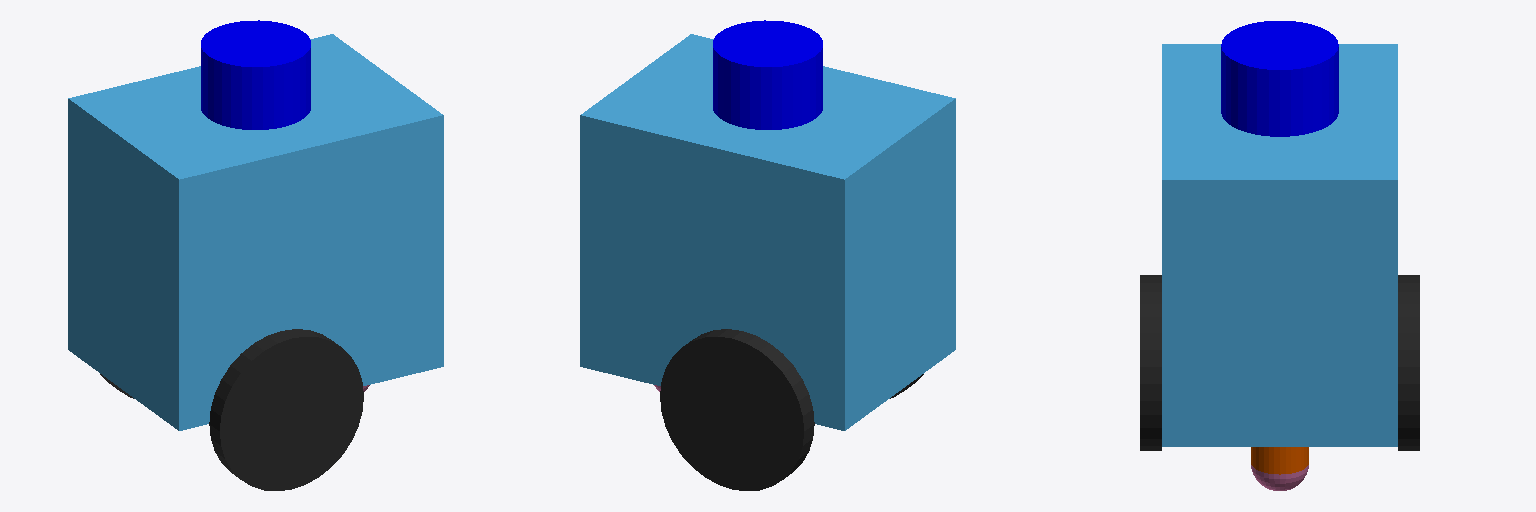
robot.urdf — two_wheeled_robot:
<robot name="two_wheeled_robot">
  <!-- Base Footprint Link -->
  <link name="base_footprint">
    <inertial>
      <origin xyz="0 0 0" rpy="0 0 0"/>
      <mass value="0.001"/>
      <inertia ixx="0.0000001" ixy="0" ixz="0" iyy="0.0000001" iyz="0" izz="0.0000001"/>
    </inertial>
  </link>
  <!-- Base Link -->
  <link name="base_link">
    <visual>
      <geometry>
        <box size="0.11 0.08 0.1"/>
      </geometry>
    </visual>
    <collision>
      <geometry>
        <box size="0.12 0.08 0.1"/>
      </geometry>
    </collision>
    <inertial>
      <mass value="1"/>
      <inertia ixx="0.001" ixy="0.0" ixz="0.0" iyy="0.001" iyz="0.0" izz="0.001"/>
    </inertial>
  </link>
  <!-- LIDAR Link -->
  <link name="lidar">
    <visual>
      <geometry>
        <cylinder radius="0.02" length="0.025"/>
      </geometry>
      <origin rpy="0 0 0" xyz="0 0 0"/>
      <material name="blue">
        <color rgba="0 0 1 1"/>
      </material>
    </visual>
    <collision>
      <geometry>
        <cylinder radius="0.02" length="0.025"/>
      </geometry>
    </collision>
    <inertial>
      <mass value="0.1"/>
      <inertia ixx="0.0001" ixy="0.0" ixz="0.0" iyy="0.0001" iyz="0.0" izz="0.0001"/>
    </inertial>
  </link>
  <!-- Wheel Links -->
  <link name="left_wheel">
    <visual>
      <geometry>
        <cylinder radius="0.03" length="0.0075"/>
      </geometry>
      <material name="black"/>
    </visual>
    <collision>
      <geometry>
        <cylinder radius="0.03" length="0.0075"/>
      </geometry>
    </collision>
    <inertial>
      <mass value="0.1"/>
      <inertia ixx="0.0001" ixy="0.0" ixz="0.0" iyy="0.0001" iyz="0.0" izz="0.0001"/>
    </inertial>
  </link>
  <link name="right_wheel">
    <visual>
      <geometry>
        <cylinder radius="0.03" length="0.0075"/>
      </geometry>
      <material name="black">
        <color rgba="0.2 0.2 0.2 1"/>
      </material>
    </visual>
    <collision>
      <geometry>
        <cylinder radius="0.03" length="0.075"/>
      </geometry>
    </collision>
    <inertial>
      <mass value="0.1"/>
      <inertia ixx="0.0001" ixy="0.0" ixz="0.0" iyy="0.0001" iyz="0.0" izz="0.0001"/>
    </inertial>
  </link>
  <!--Caster Cylinder Link-->
  <link name="caster_cylinder">
    <visual>
      <geometry>
        <cylinder radius="0.01" length="0.025"/>
      </geometry>
    </visual>
    <collision>
      <geometry>
        <cylinder radius="0.01" length="0.025"/>
      </geometry>
    </collision>
    <inertial>
      <mass value="0.05"/>
      <inertia ixx="0.001" ixy="0.0001" ixz="0.0" iyy="0.0" iyz="0.0" izz="0.0"/>
    </inertial>
  </link>
  <!-- Caster Link -->
  <link name="caster">
    <visual>
      <geometry>
        <sphere radius="0.01"/>
      </geometry>
    </visual>
    <collision>
      <geometry>
        <sphere radius="0.01"/>
      </geometry>
    </collision>
    <inertial>
      <mass value="0.05"/>
      <inertia ixx="0.0000125" ixy="0.0" ixz="0.0" iyy="0.0000125" iyz="0.0" izz="0.0000125"/>
    </inertial>
  </link>
  <!-- Joint Definitions -->
  <!-- Base Footprint Joint -->
  <joint name="base_footprint_joint" type="fixed">
    <parent link="base_footprint"/>
    <child link="base_link"/>
    <origin xyz="0 0 0" rpy="0 0 0"/>
  </joint>
  <!-- LIDAR Joint -->
  <joint name="lidar_joint" type="fixed">
    <parent link="base_link"/>
    <child link="lidar"/>
    <origin xyz="0 0 0.0625" rpy="0 0 0"/>
  </joint>
  <!-- Wheels Joint -->
  <joint name="left_wheel_joint" type="continuous">
    <parent link="base_link"/>
    <child link="left_wheel"/>
    <origin xyz="-0.0125 -0.04375 -0.05" rpy="1.57075 0 0"/>
    <axis xyz="0 1 0"/>
  </joint>
  <joint name="right_wheel_joint" type="continuous">
    <parent link="base_link"/>
    <child link="right_wheel"/>
    <origin xyz="-0.0125 0.04375 -0.05" rpy="1.57075 0 0"/>
    <axis xyz="0 1 0"/>
  </joint>
  <!-- Cylinder Caster Joint -->
  <joint name="cylinder_joint" type="fixed">
    <parent link="base_link"/>
    <child link="caster_cylinder"/>
    <origin xyz="0.0375 0 -0.05125" rpy="0 0 0"/>
    <axis xyz="0 1 0"/>
  </joint>
  <joint name="caster_joint" type="floating">
    <parent link="caster_cylinder"/>
    <child link="caster"/>
    <origin xyz="0 0 -0.0125" rpy="0 0 0"/>
  </joint>
  <!-- Gazebo plugin for differential drive -->
  <gazebo>
    <plugin name="differential_drive_controller" filename="libgazebo_ros_diff_drive.so">
      <legacyMode>false</legacyMode>
      <alwaysOn>true</alwaysOn>
      <updateRate>100</updateRate>
      <leftJoint>left_wheel_joint</leftJoint>
      <rightJoint>right_wheel_joint</rightJoint>
      <wheelSeparation>0.0875</wheelSeparation>
      <wheelDiameter>0.06</wheelDiameter>
      <torque>0.5</torque>
      <commandTopic>cmd_vel</commandTopic>
      <odometryTopic>odom</odometryTopic>
      <odometryFrame>odom</odometryFrame>
      <robotBaseFrame>base_footprint</robotBaseFrame>
    </plugin>
  </gazebo>
  <!-- Gazebo plugin for RPLIDAR A1 -->
  <gazebo reference="lidar">
    <sensor type="ray" name="head">
      <pose>0 0 0 0 0 0</pose>
      <visualize>true</visualize>
      <update_rate>10</update_rate>
      <ray>
        <scan>
          <horizontal>
            <samples>360</samples>
            <resolution>1</resolution>
            <min_angle>0</min_angle>
            <max_angle>6.28319</max_angle>
          </horizontal>
        </scan>
        <range>
          <min>0.12</min>
          <max>3.5</max>
          <resolution>0.01</resolution>
        </range>
        <noise>
          <type>gaussian</type>
          <mean>0.0</mean>
          <stddev>0.01</stddev>
        </noise>
      </ray>
      <plugin name="gazebo_ros_head" filename="libgazebo_ros_laser.so">
        <topicName>/scan</topicName>
        <frameName>lidar</frameName>
      </plugin>
    </sensor>
  </gazebo>
</robot>

--- Render facts (derived) ---
The picture shows the robot from 3 angles, left to right: view 1: azimuth 30°, elevation 25°; view 2: azimuth 150°, elevation 25°; view 3: azimuth 270°, elevation 25°; orthographic projection.
Robot: two_wheeled_robot — 7 links, 6 joints (2 continuous, 3 fixed, 1 floating); root link base_footprint; default pose: every joint at zero.
Visible links, largest first — view 1: base_link, left_wheel, lidar; view 2: base_link, right_wheel, lidar; view 3: base_link, lidar, left_wheel, right_wheel, caster_cylinder, caster.
Boxes of the visible links, bbox=[...] form: base_link: bbox=[68, 34, 443, 430]; left_wheel: bbox=[209, 329, 363, 490]; lidar: bbox=[201, 20, 310, 129]; base_link: bbox=[580, 34, 955, 430]; right_wheel: bbox=[660, 329, 814, 490]; lidar: bbox=[713, 20, 822, 129]; base_link: bbox=[1162, 44, 1397, 446]; lidar: bbox=[1221, 21, 1338, 136]; left_wheel: bbox=[1140, 275, 1161, 450]; right_wheel: bbox=[1398, 275, 1419, 450]; caster_cylinder: bbox=[1251, 447, 1308, 474]; caster: bbox=[1251, 465, 1308, 490].
Size in the robot's own frame: 0.11 by 0.095 by 0.155 metres.
Geometry: primitives only (box / cylinder / sphere), no mesh files.
